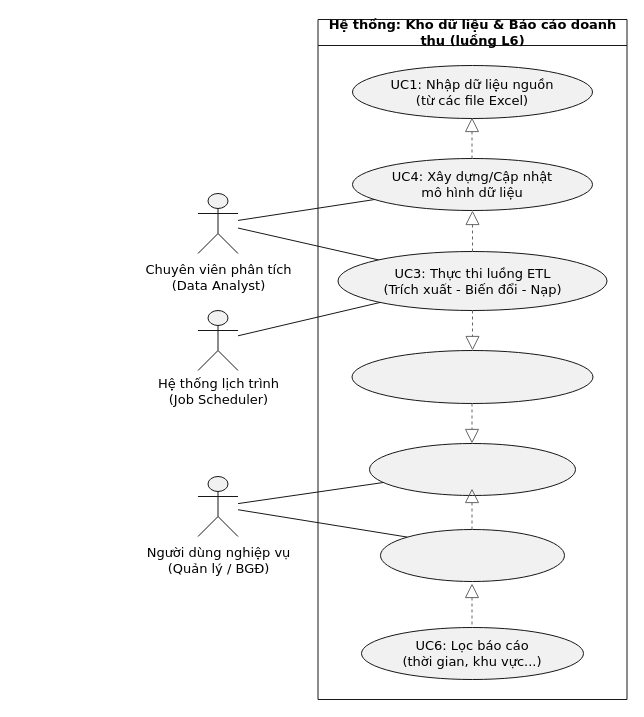
Some shapes in this 644 by 717 pixel diagram are drawn without their labels. The shapes that lost their labels are listed below. From the top down, each one's centre as x and y in pixels, then its label:
At (x=472, y=377): "UC2: Xử lý và làm sạch dữ liệu (Data Cleansing)".
At (x=472, y=469): "UC5: Xem Dashboard báo cáo doanh thu".
At (x=472, y=555): "UC7: Xuất báo cáo (PDF/Excel)".
